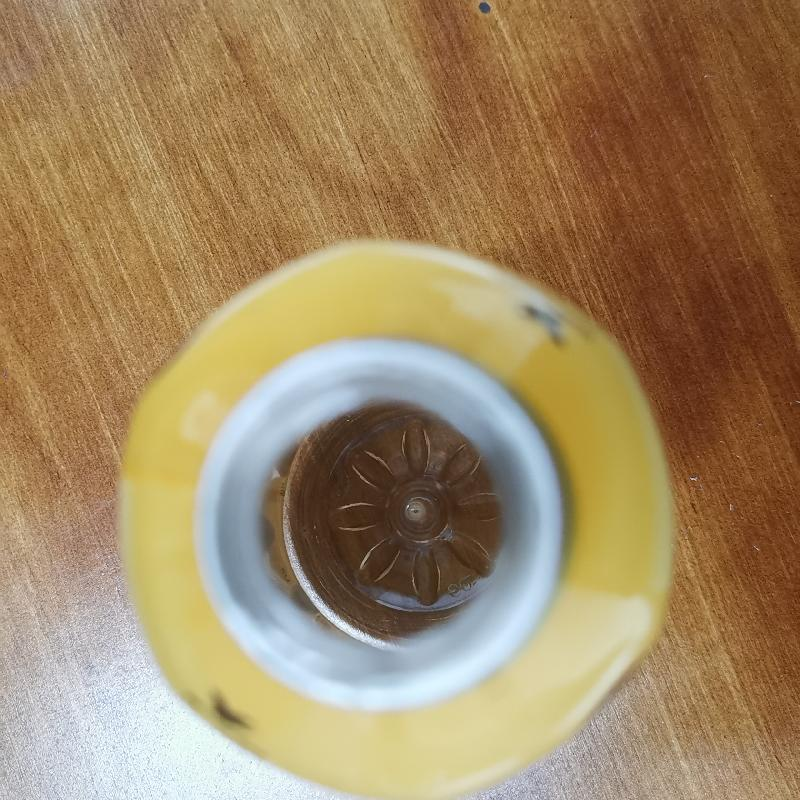bottles: (113, 234, 685, 799)
